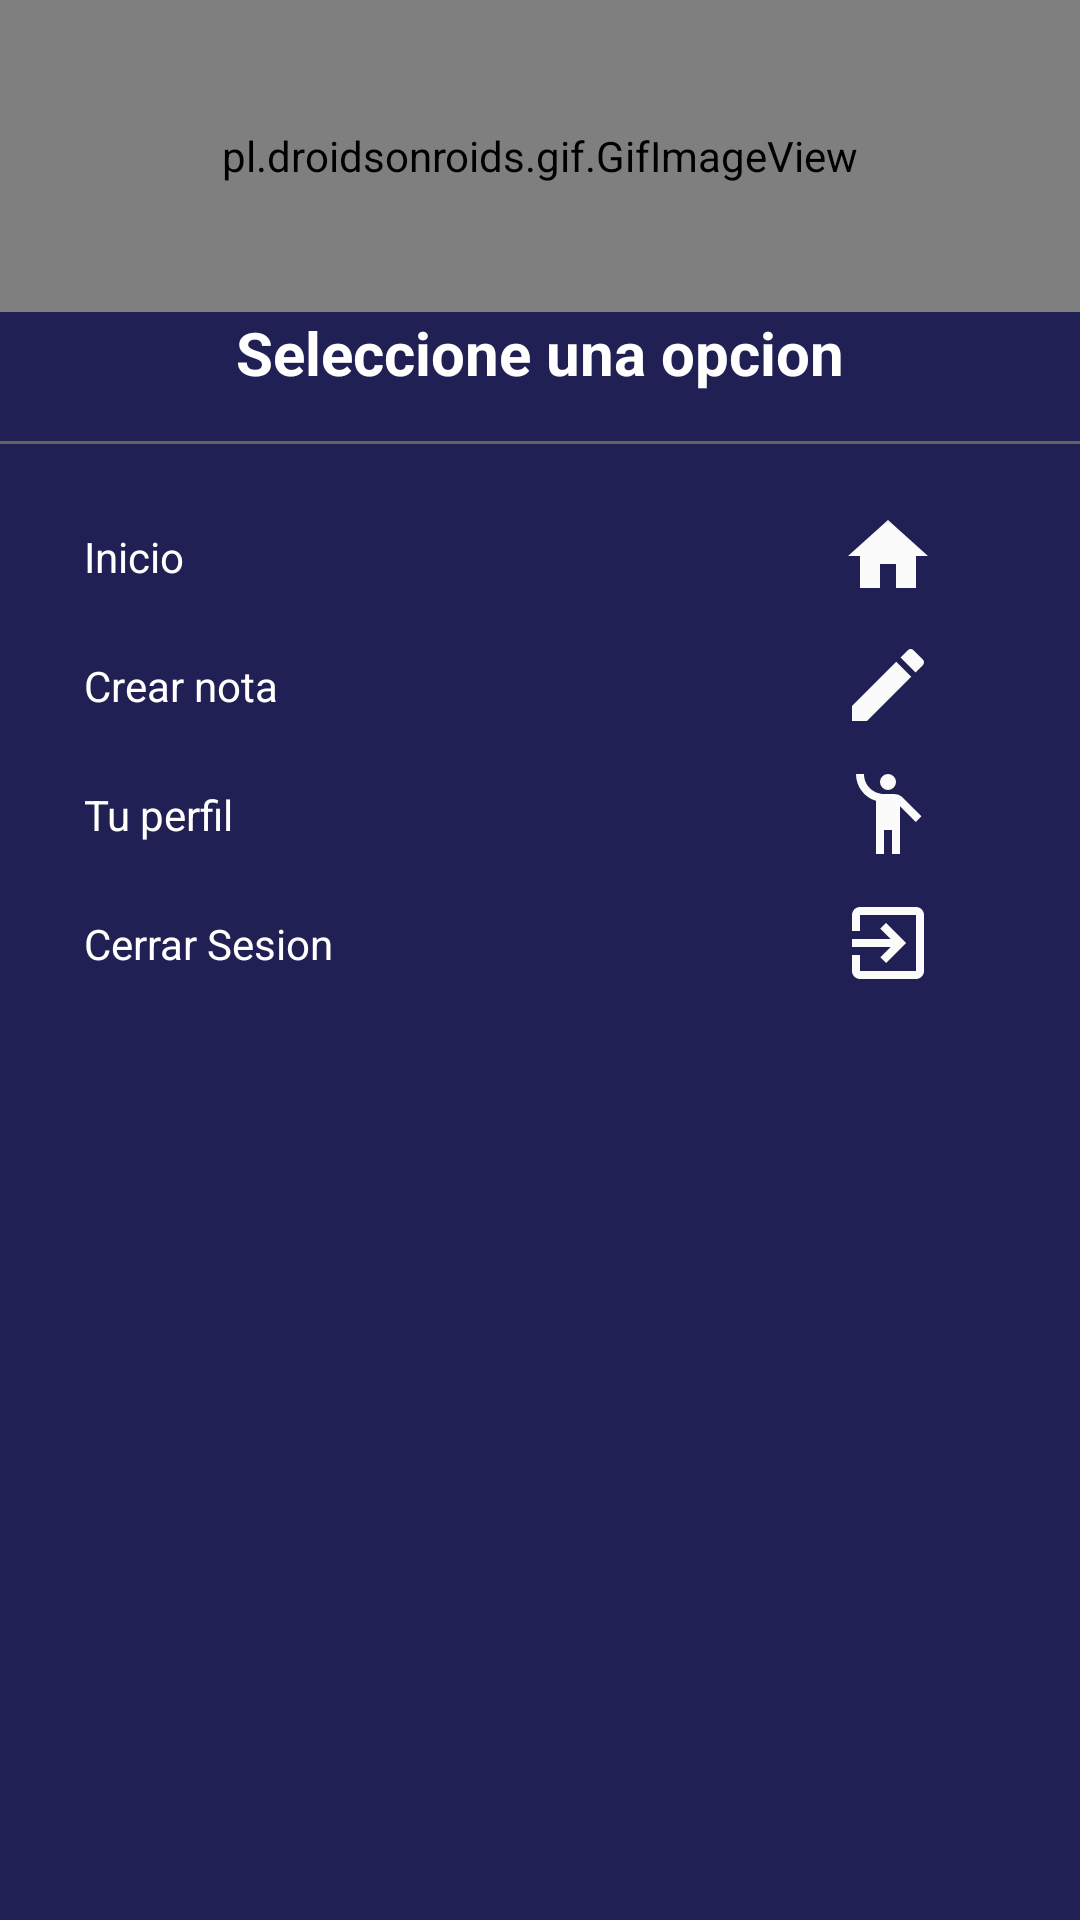

Named icons in this screenshot (1080 x 1920) and their centers, (x,y):
salir: (888,943)
write: (888,685)
